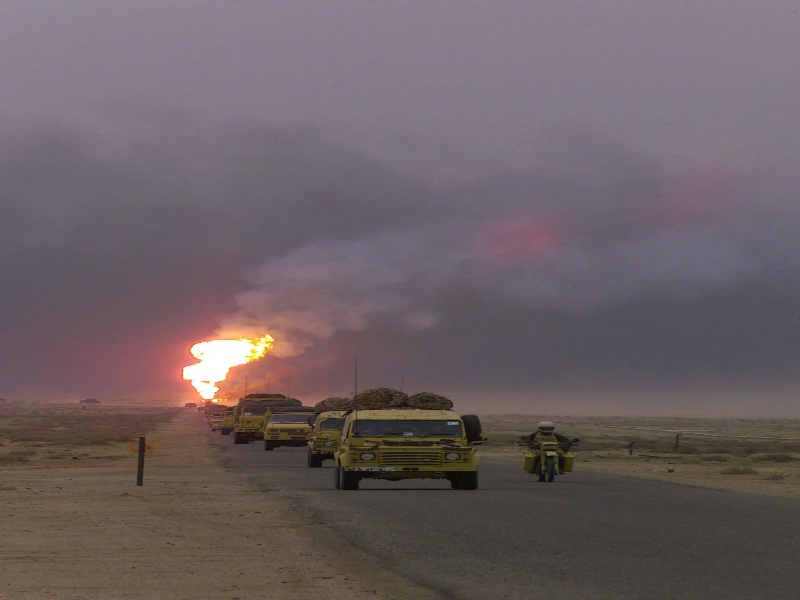smoke: (260, 254, 439, 333)
